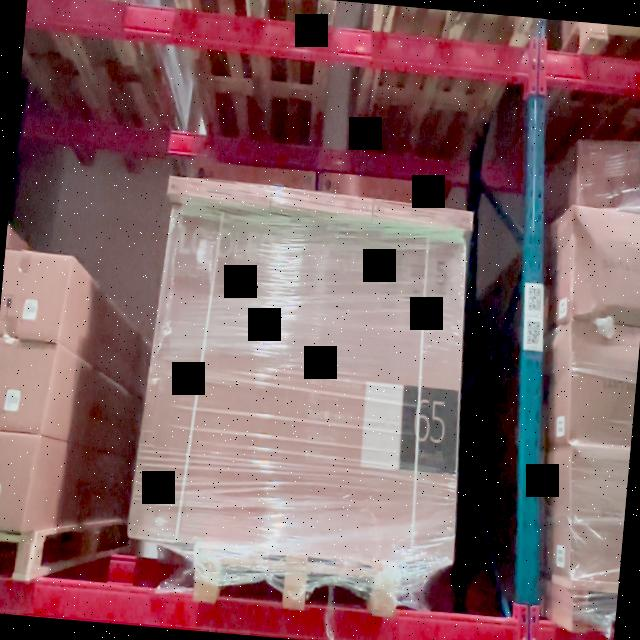box: (146, 213, 468, 564), (166, 172, 269, 215), (269, 182, 372, 222), (375, 195, 474, 230)
